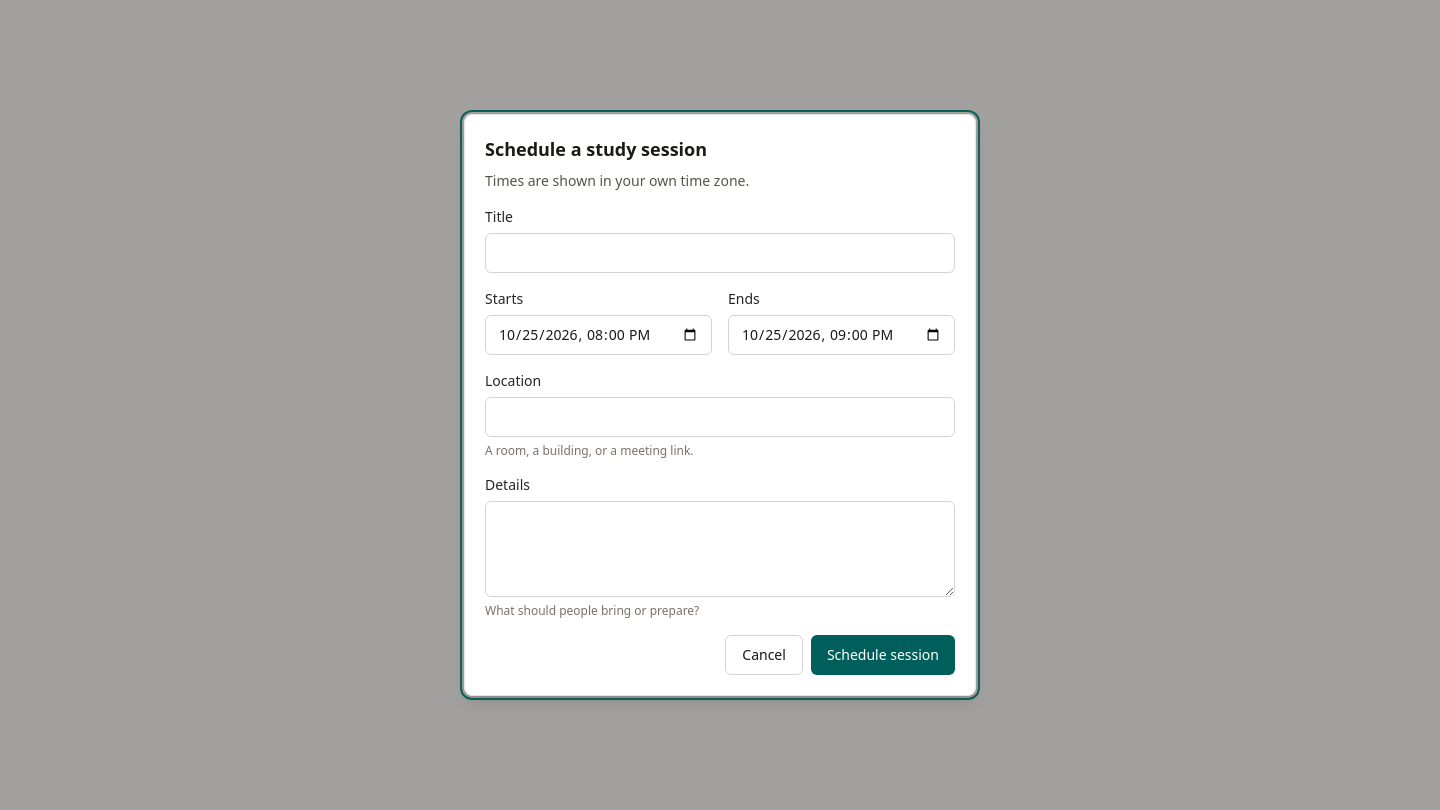
Scenario: SessionFormDialog › requires a title
Click the button "Schedule session". click: point(883, 655)
box: [811,635,955,675]
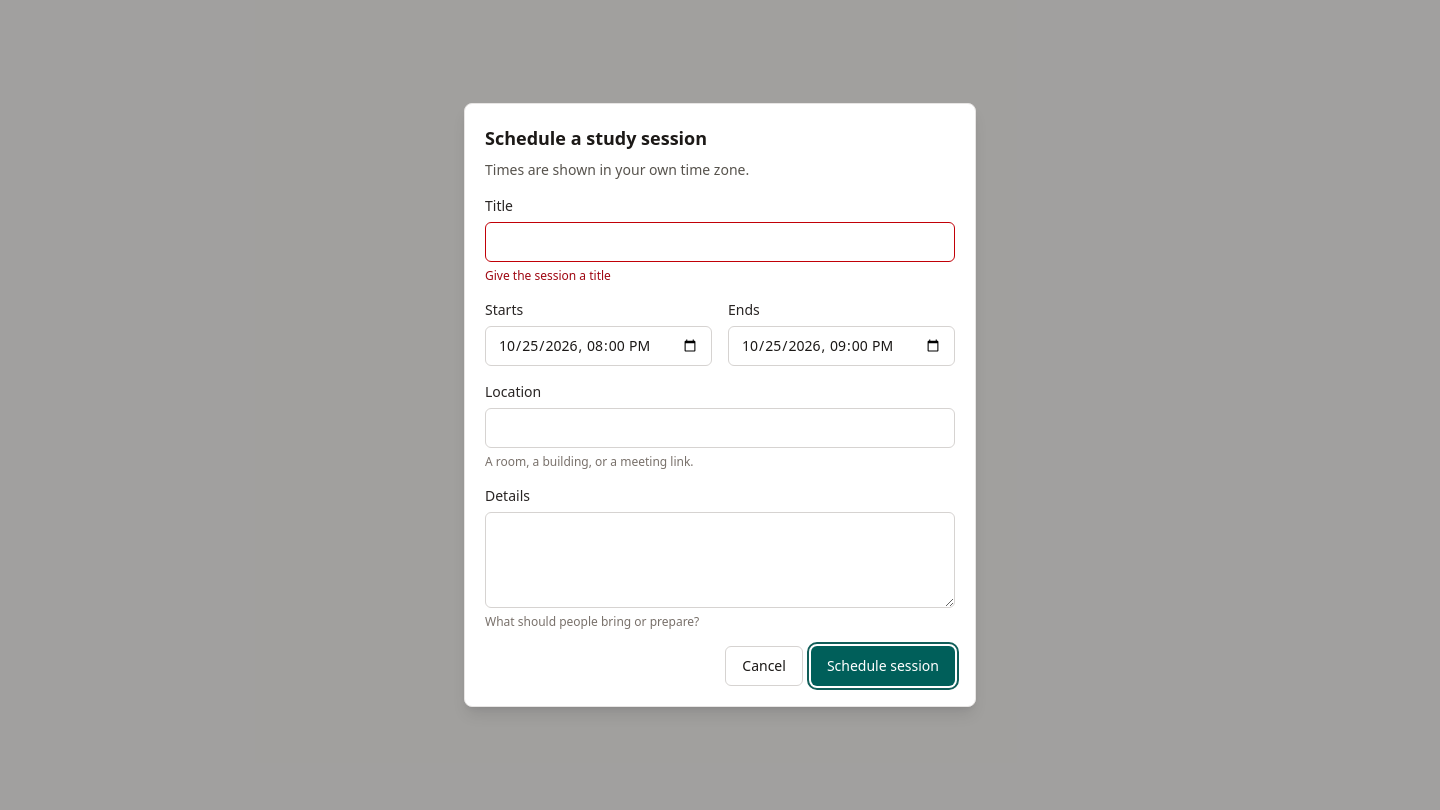
Expected: the text "Give the session a title" is shown, [485,267,611,284]
